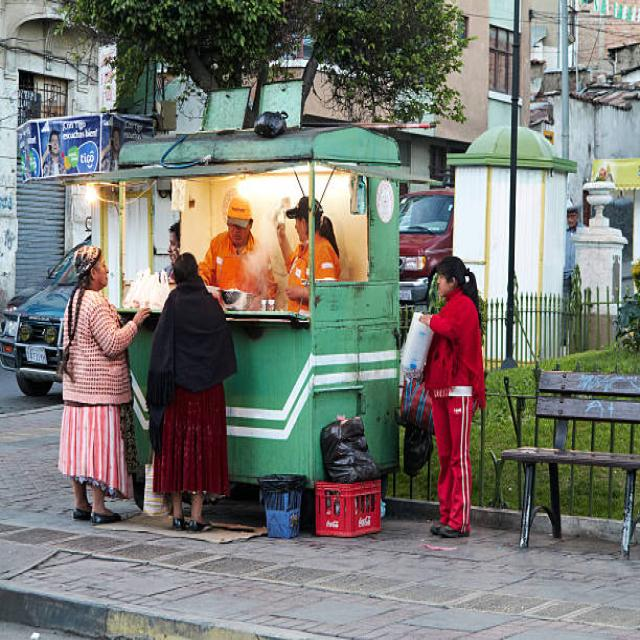Emperan: (58, 97, 417, 576)
